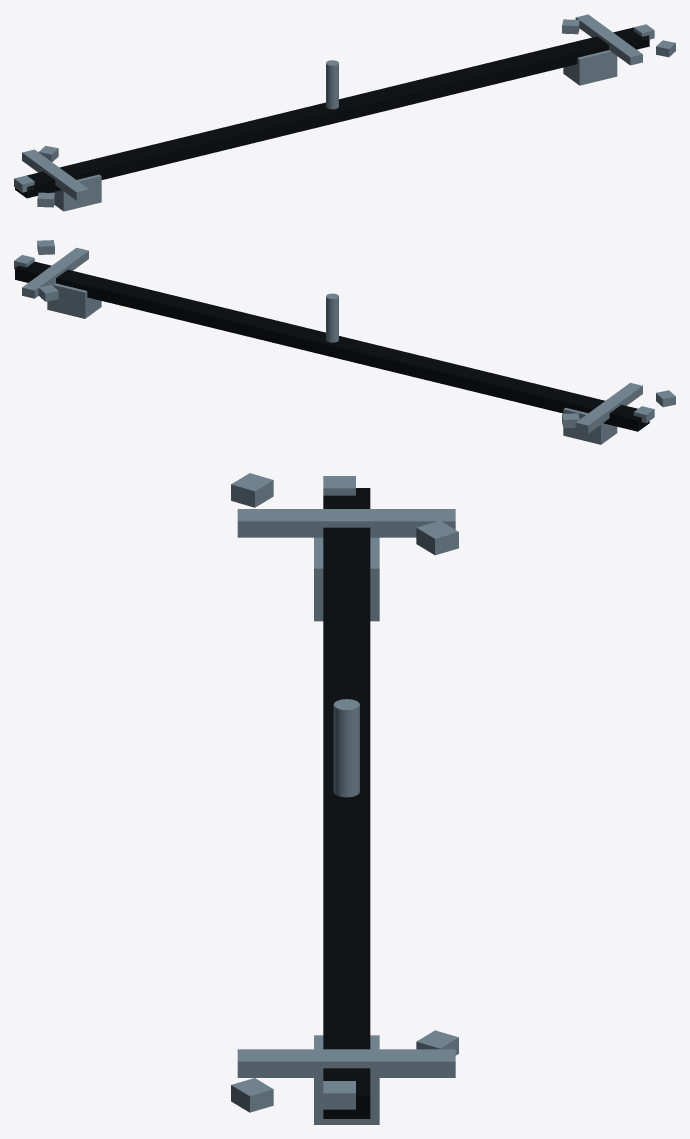
The model's file is sensor_rail.dae.
3 renders of one model, top to bottom at view 1: azimuth 30°, elevation 25°; view 2: azimuth 150°, elevation 25°; view 3: azimuth 270°, elevation 25°, orthographic. The views are drawn at different scales.
Visible parts, largest first — view 1: node; view 2: node; view 3: node.
Part boxes in pixels (x1=…): node: x1=14, y1=14, x2=675, y2=211; node: x1=14, y1=240, x2=675, y2=444; node: x1=231, y1=473, x2=458, y2=1124.
Size of the model in its own units: 2.03 by 0.3136 by 0.228.
